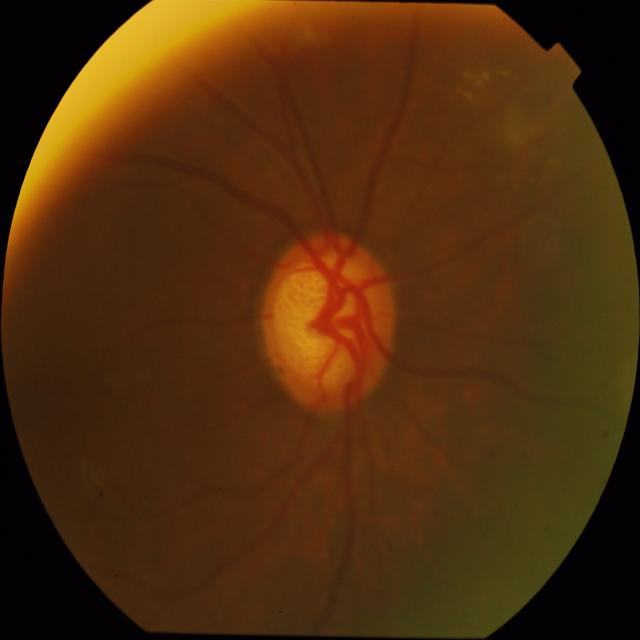OC: (270, 262, 362, 387)
OD: (259, 230, 397, 414)
